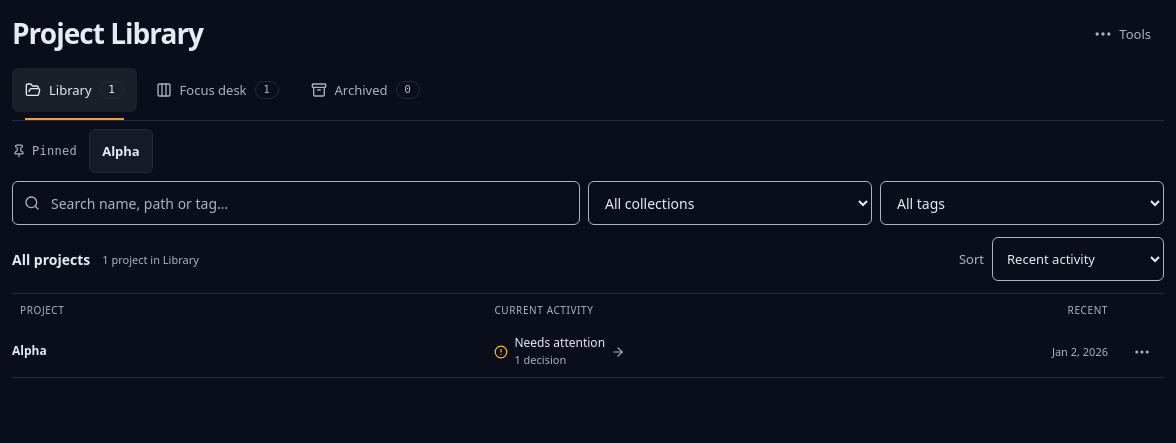
Test case: keeps attention and waiting visible on Focus even with no unread updates
Expected: the button "Needs attention 1 decision" is shown, x1=486 y1=329 x2=633 y2=374
Click the button "Focus desk 1".
click(217, 90)  # box x1=143 y1=68 x2=292 y2=112
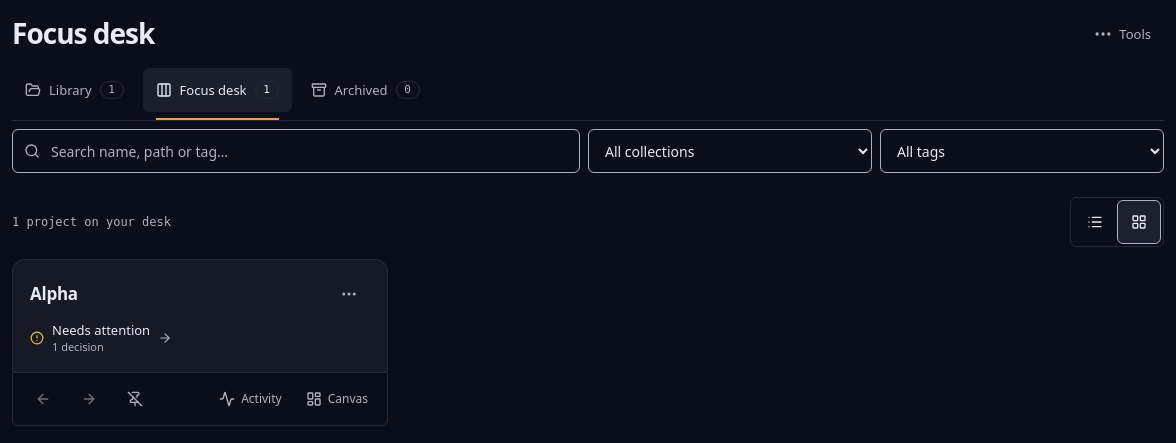
Expected: the button "Needs attention 1 decision" is shown, x1=29 y1=316 x2=173 y2=360
Click the heading named "Library tools".
click(1122, 34)  # box x1=1093 y1=24 x2=1151 y2=44
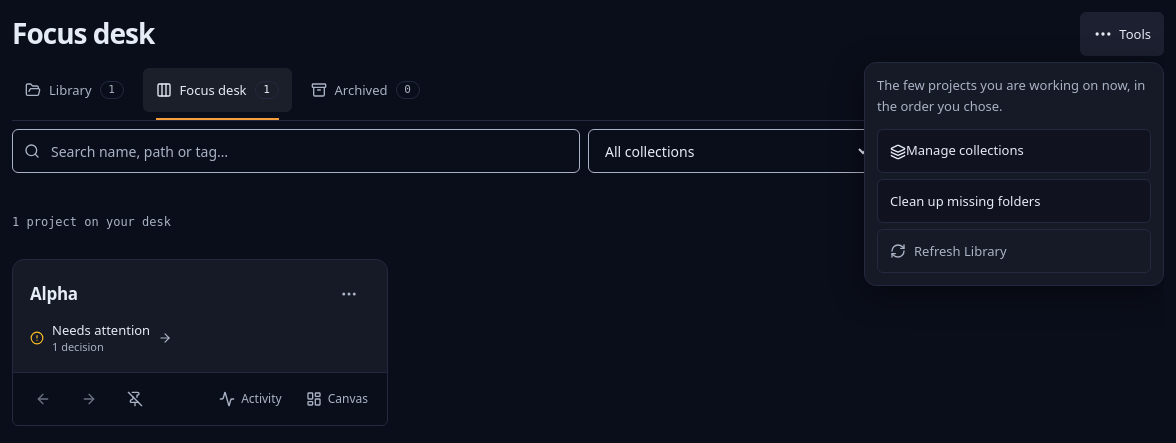
Click the button "Refresh Library".
click(960, 250)  # box x1=877 y1=229 x2=1151 y2=273
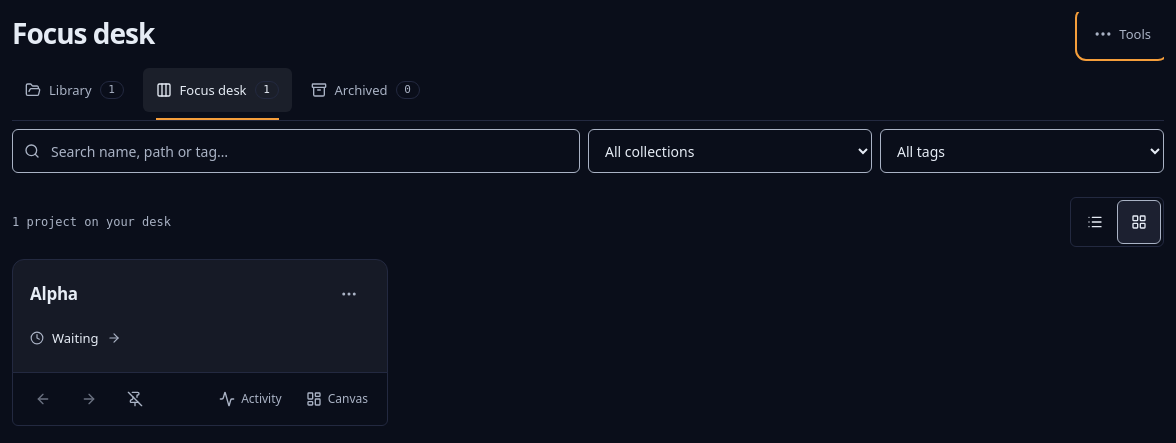
Now the button "Waiting" is shown, box x1=29 y1=316 x2=122 y2=360
